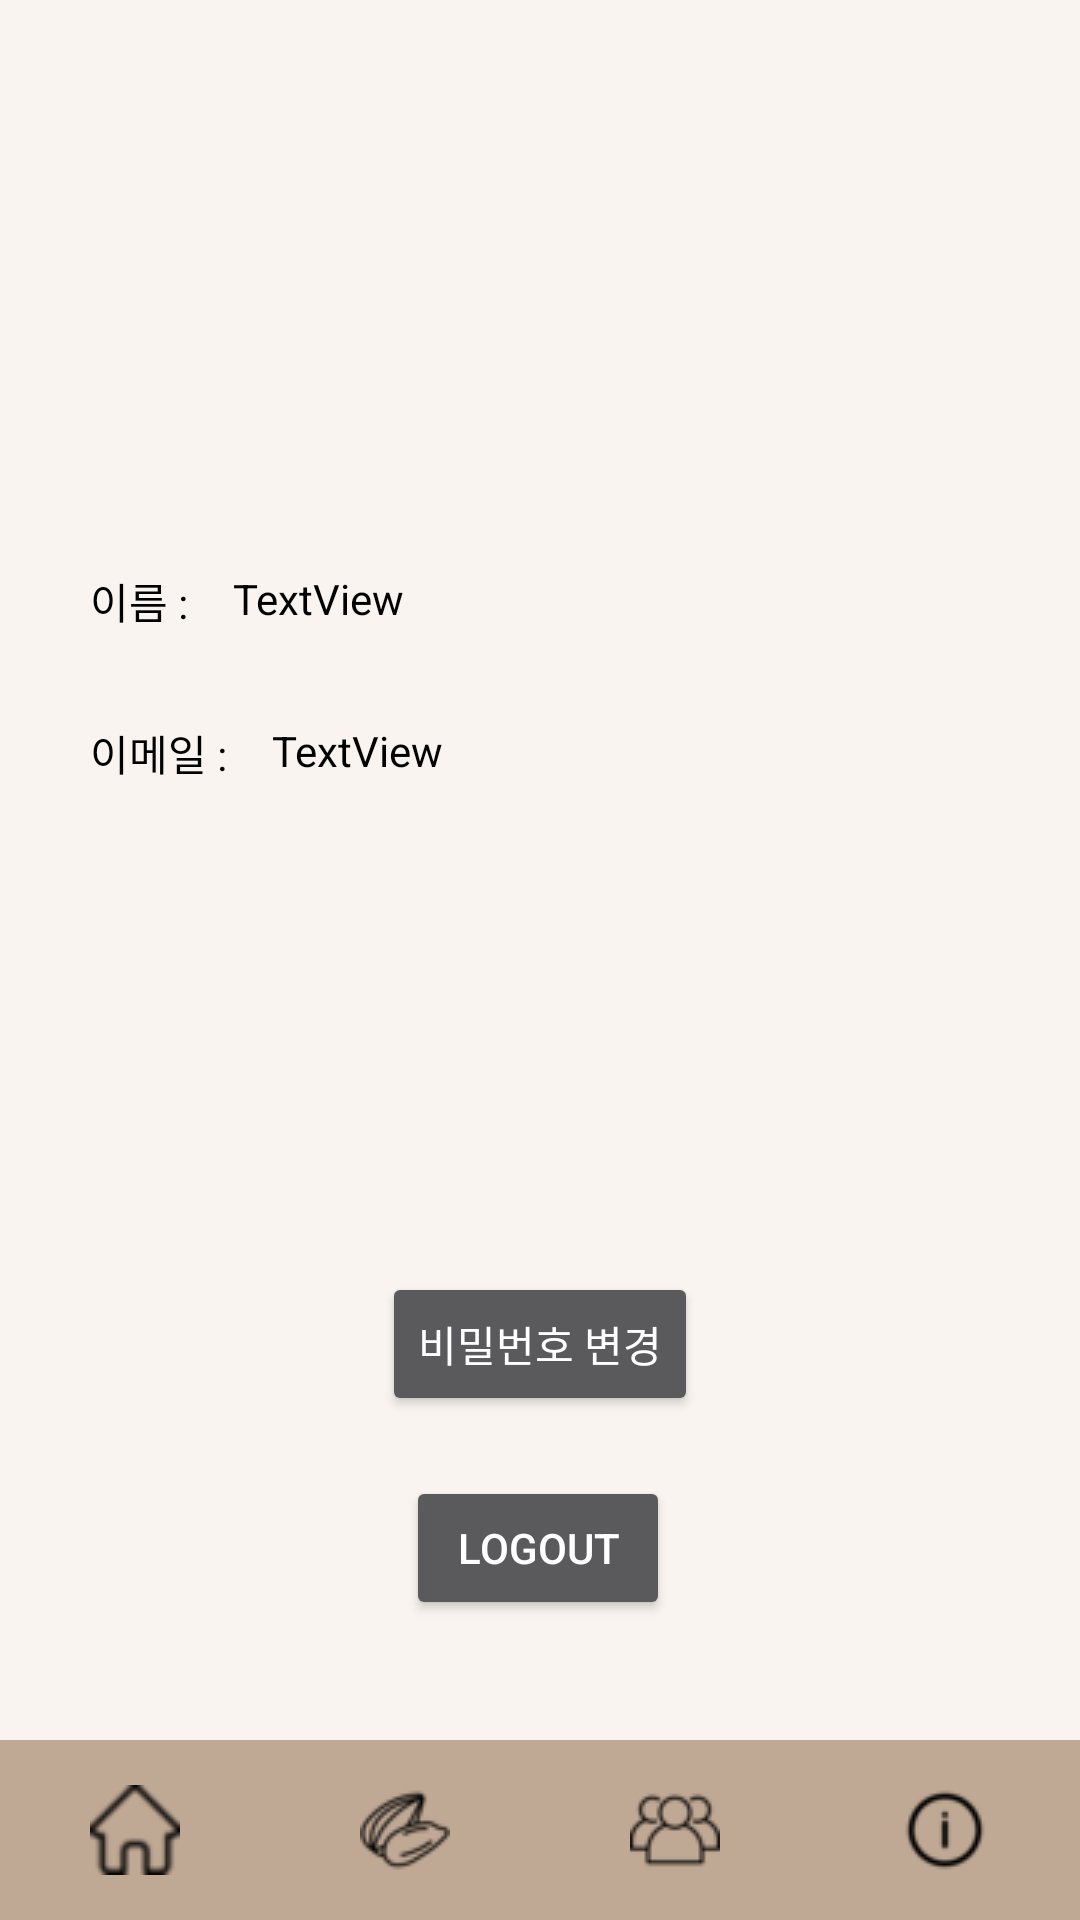

Named icons in this screenshot (1080px x 1920px) and their centers, (x=x, y=y):
friend: (x=675, y=1830)
home: (x=135, y=1830)
info: (x=945, y=1830)
seed: (x=405, y=1830)
